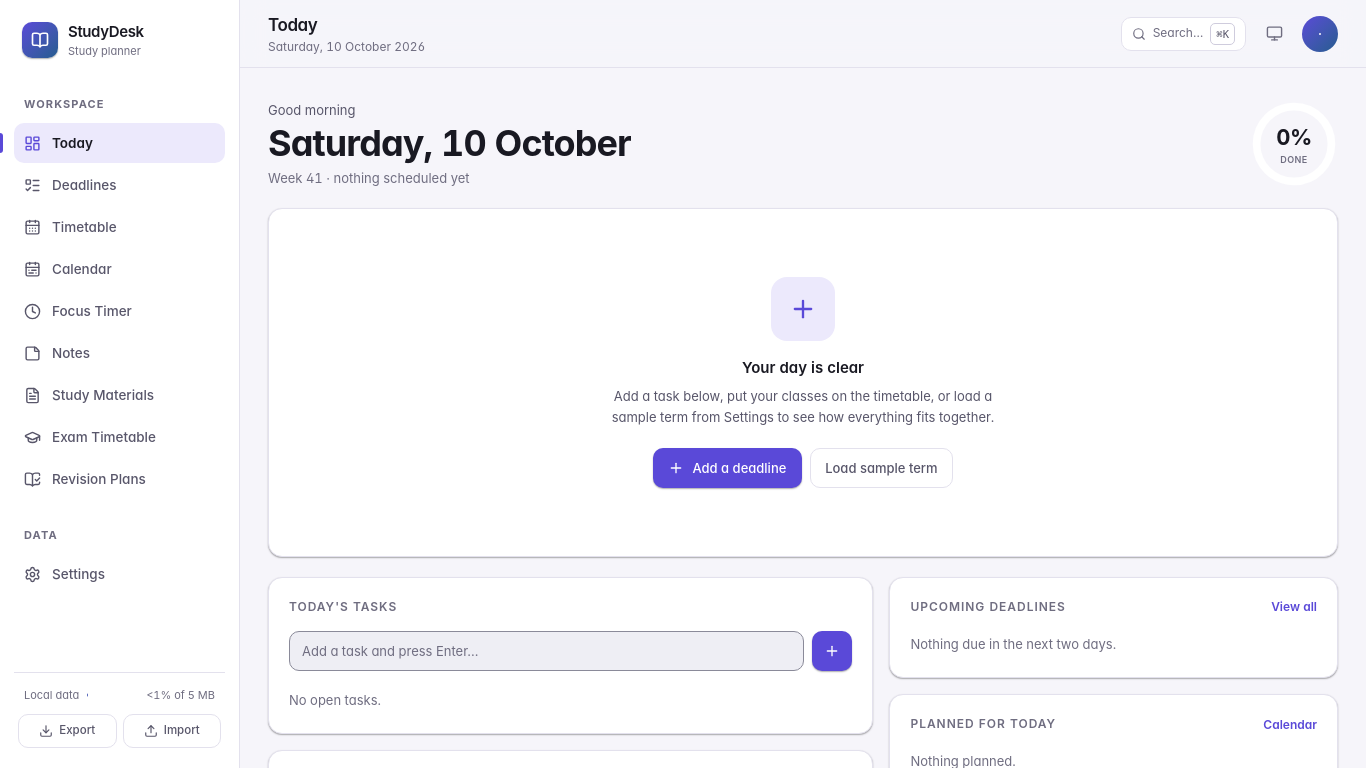
Test: timetable rendering › notes preview › focus timer controls › shows the notification capability state and a sound test control
Click the link "Focus Timer".
click(78, 311)  # box [24,303,132,320]
(page scrolled)
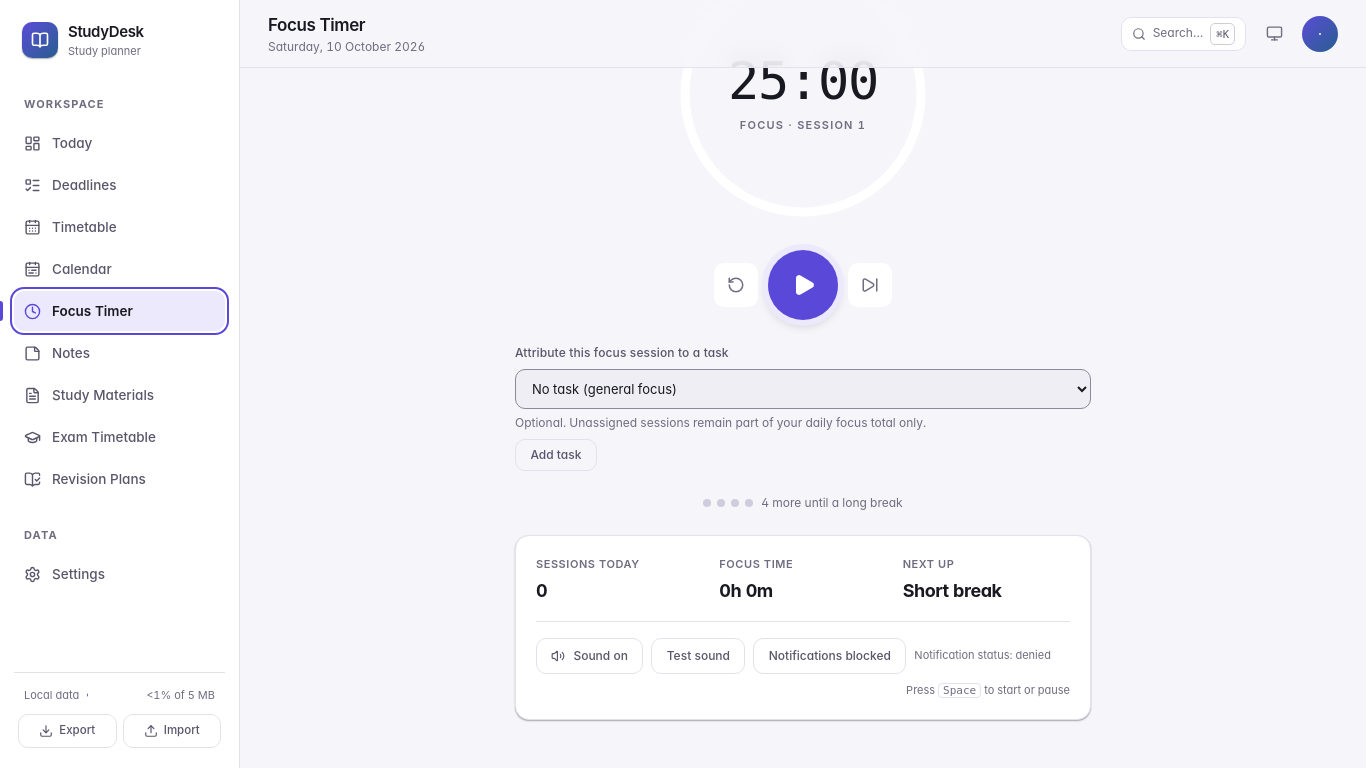
Now the message "Notification status: denied" is shown, box [914,648,1051,664]
Now the button "Test sound" is shown, box [651,638,745,674]
